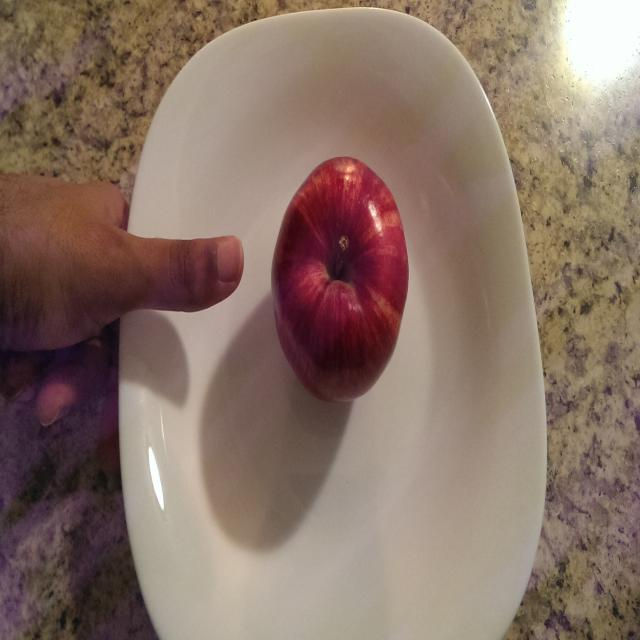apple: (267, 144, 425, 422)
